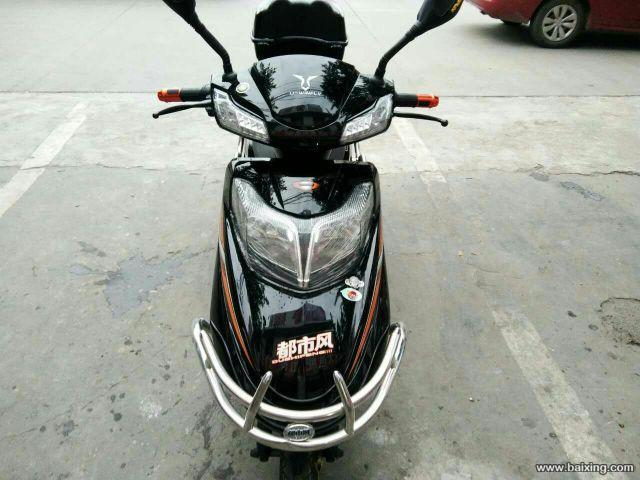电动车: (139, 3, 478, 480)
